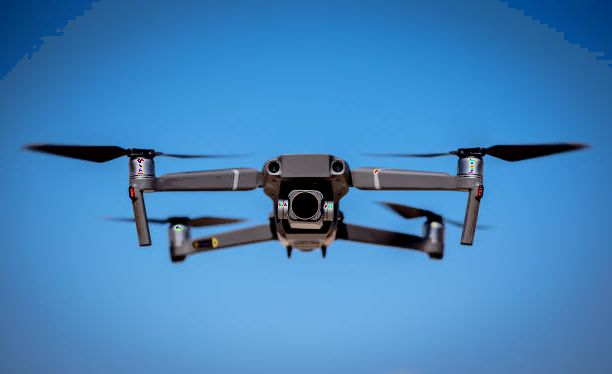Drone: (20, 132, 589, 266)
